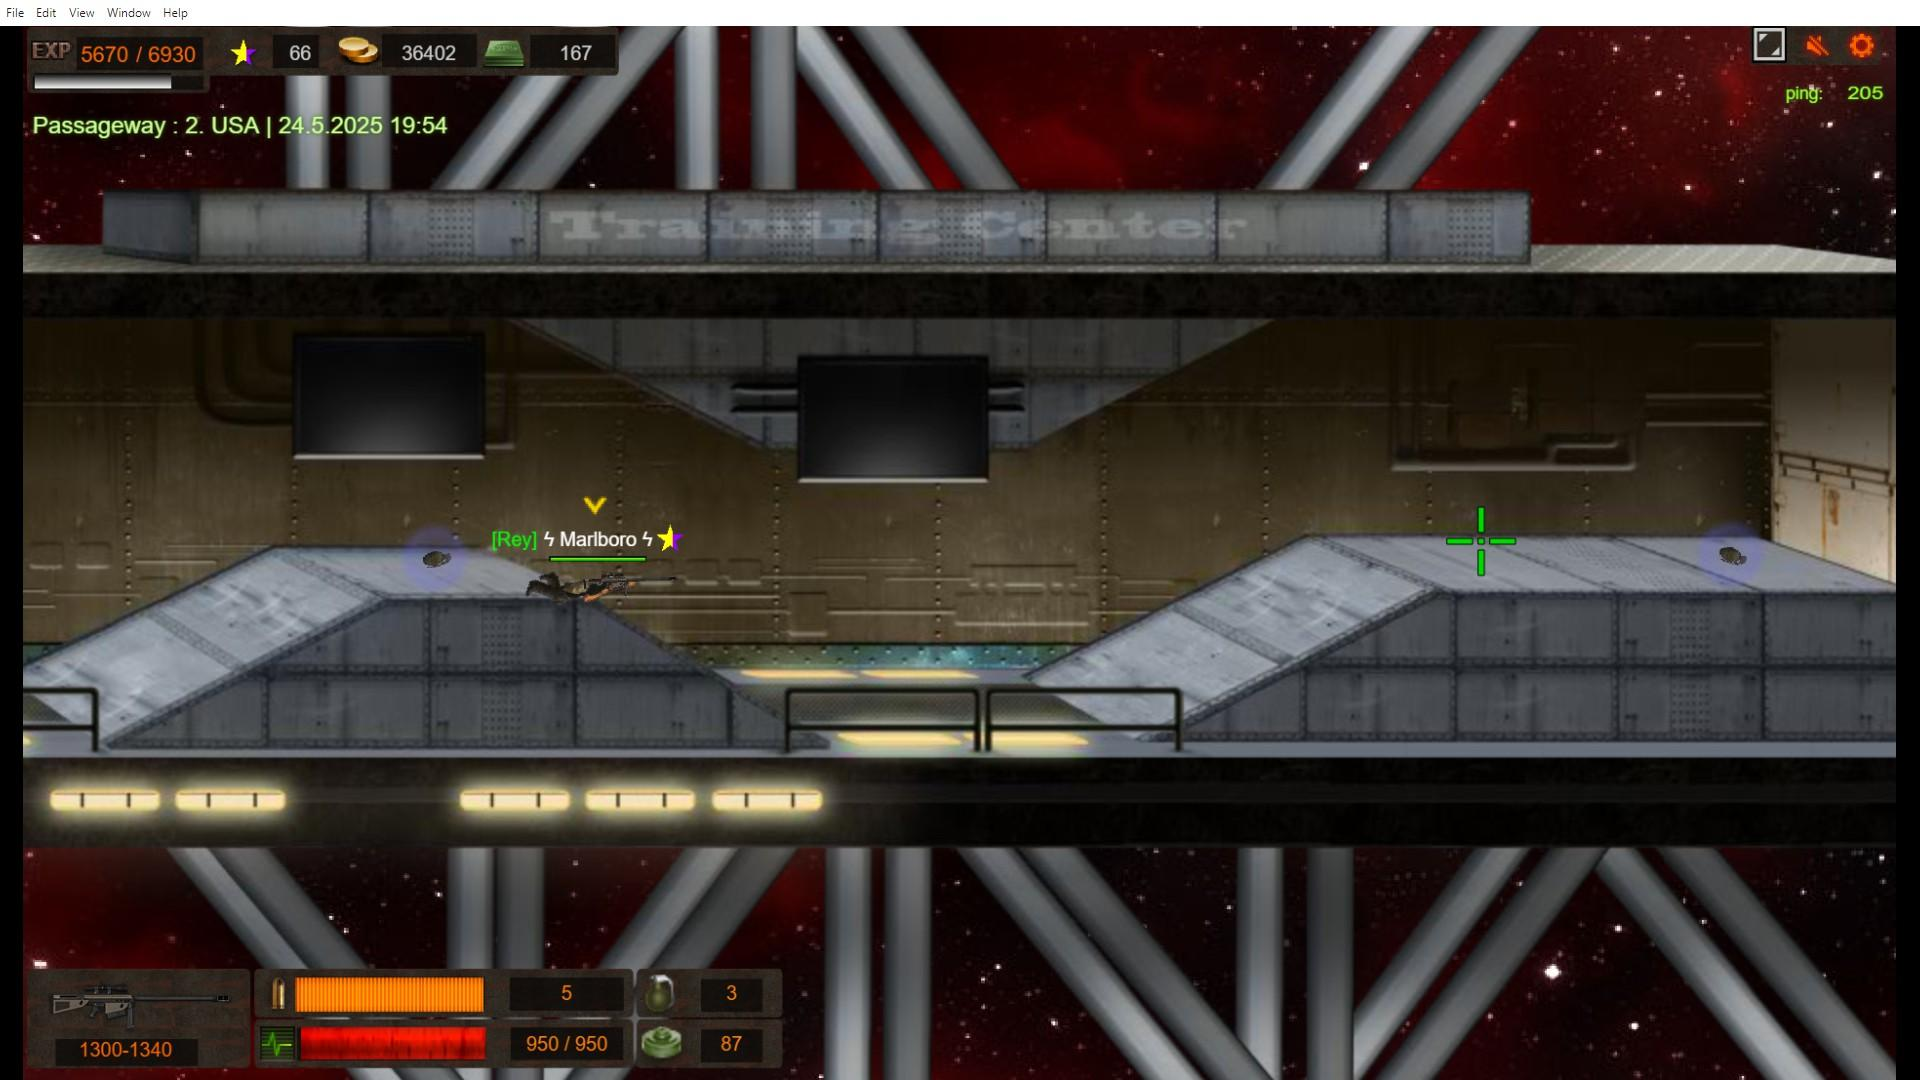enemy: (531, 574, 633, 603)
